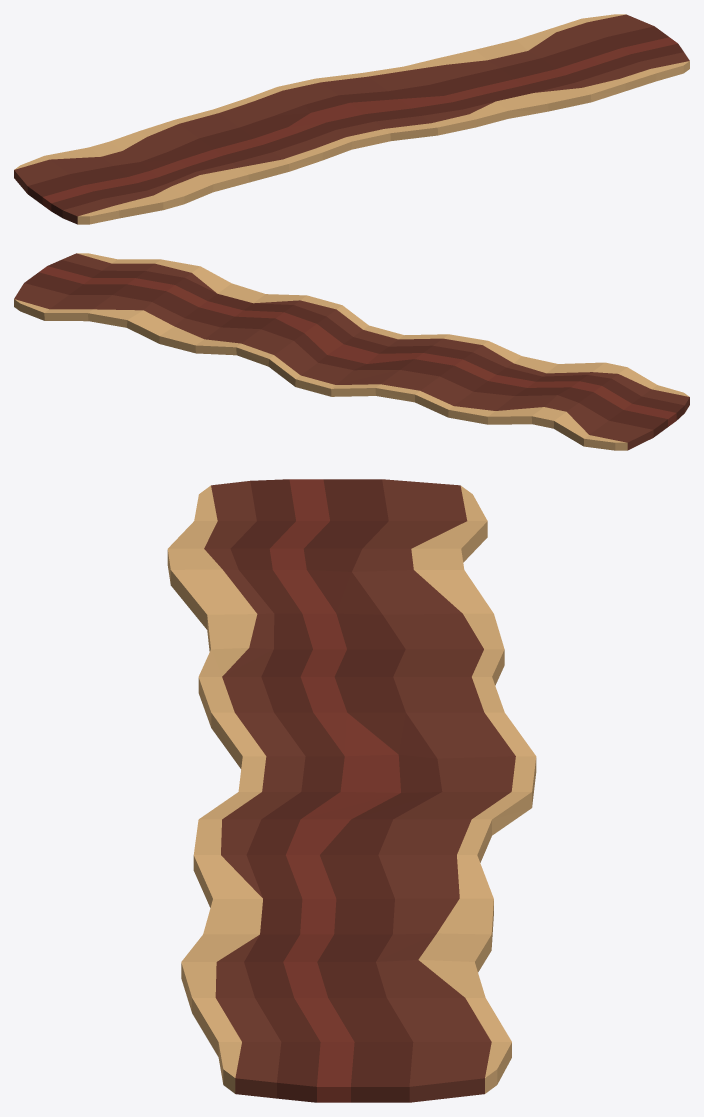
File: Bacon_Cooked.obj
3 renders of one model, top to bottom at view 1: azimuth 30°, elevation 25°; view 2: azimuth 150°, elevation 25°; view 3: azimuth 270°, elevation 25°, orthographic. The views are drawn at different scales.
Parts seen in each view (by area): view 1: Bacon_Cooked_Meat1_Cooked, Bacon_Cooked_Meat2_Cooked, Bacon_Cooked_Light, Bacon_Cooked_Meat3_Cooked; view 2: Bacon_Cooked_Meat1_Cooked, Bacon_Cooked_Meat2_Cooked, Bacon_Cooked_Light, Bacon_Cooked_Meat3_Cooked; view 3: Bacon_Cooked_Meat1_Cooked, Bacon_Cooked_Meat2_Cooked, Bacon_Cooked_Light, Bacon_Cooked_Meat3_Cooked.
Boxes of the visible parts, x1,y1,x2,y2 form: Bacon_Cooked_Meat1_Cooked: (14,14,689,224); Bacon_Cooked_Meat2_Cooked: (27,26,683,217); Bacon_Cooked_Light: (14,14,689,224); Bacon_Cooked_Meat3_Cooked: (42,37,677,210); Bacon_Cooked_Meat1_Cooked: (14,253,689,450); Bacon_Cooked_Meat2_Cooked: (24,260,684,437); Bacon_Cooked_Light: (14,253,689,450); Bacon_Cooked_Meat3_Cooked: (39,266,676,426); Bacon_Cooked_Meat1_Cooked: (204,479,515,1102); Bacon_Cooked_Meat2_Cooked: (230,479,442,1102); Bacon_Cooked_Light: (167,485,536,1093); Bacon_Cooked_Meat3_Cooked: (269,479,400,1102).
Size of the model in its own units: 1.16 by 0.0213 by 0.2968.
